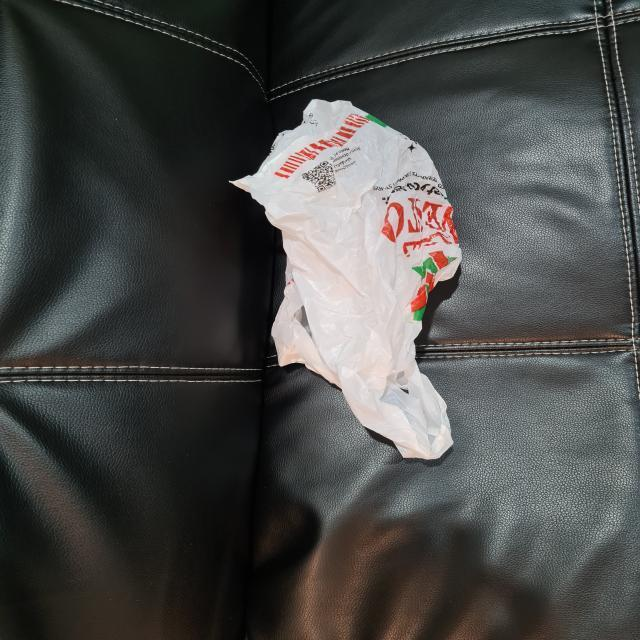Plastic_Bag: (227, 100, 498, 470)
